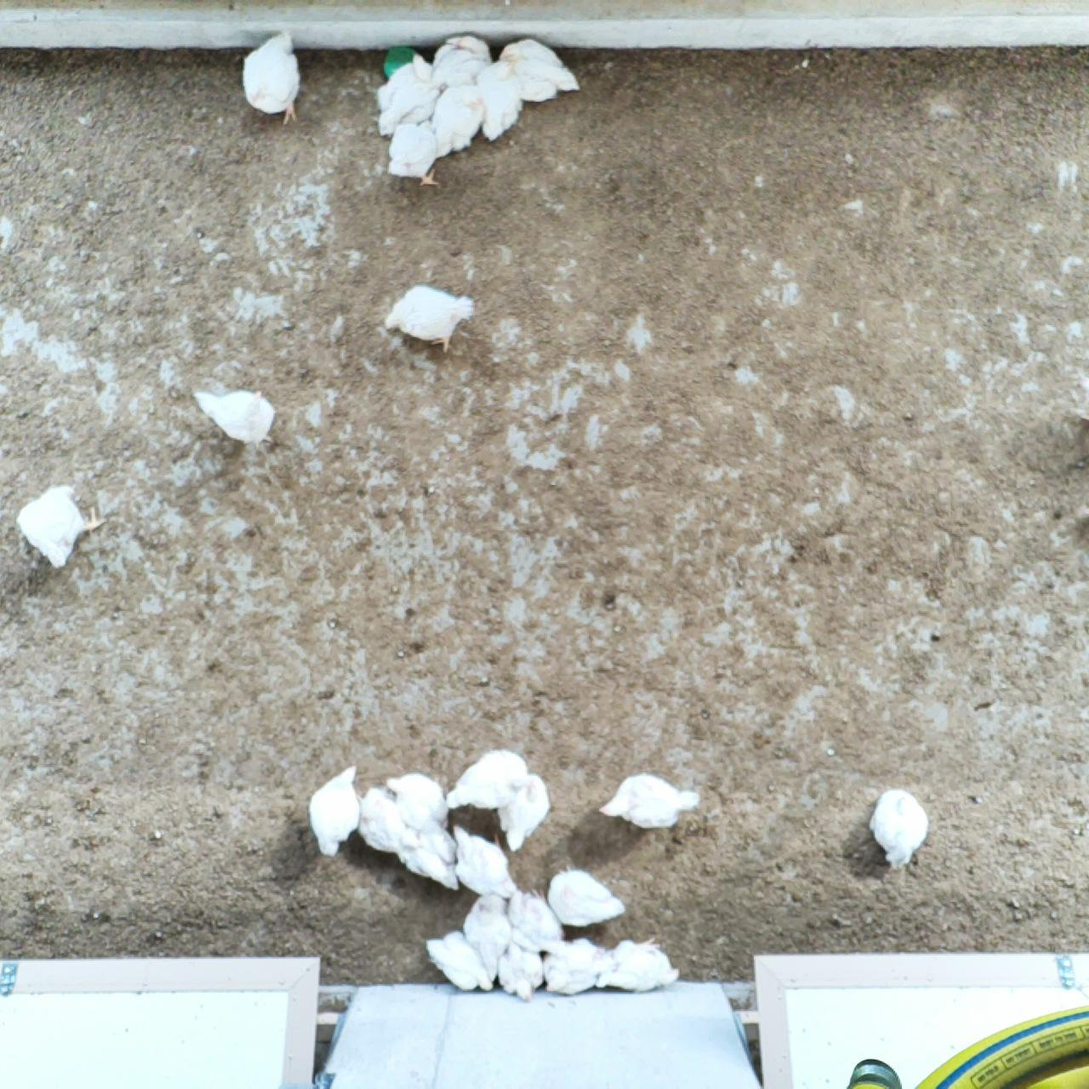chicken: (16, 477, 102, 573), (231, 27, 305, 127), (366, 50, 444, 144), (384, 281, 478, 358), (446, 814, 522, 907), (492, 33, 586, 106), (599, 769, 704, 834), (867, 782, 939, 876), (383, 771, 457, 862), (190, 384, 288, 451), (304, 758, 364, 864), (455, 880, 518, 980), (444, 742, 532, 811), (592, 932, 684, 997), (544, 862, 628, 933), (420, 924, 496, 997), (494, 764, 551, 856), (428, 68, 486, 154), (471, 60, 529, 146), (394, 823, 459, 893), (355, 787, 415, 862), (383, 115, 440, 191), (536, 941, 612, 998), (490, 931, 548, 1003), (428, 29, 496, 90), (505, 887, 568, 952)
